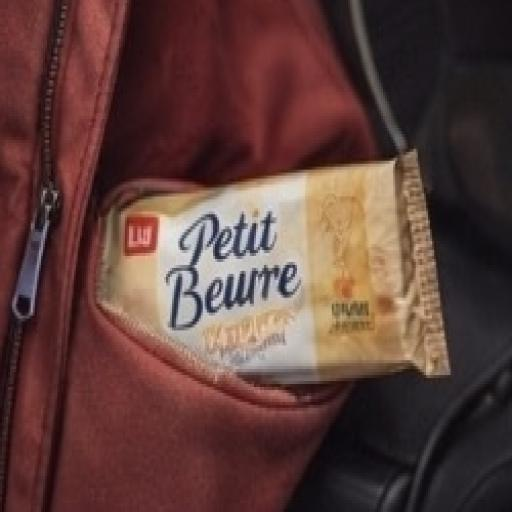petit_beurre: (60, 107, 489, 416)
